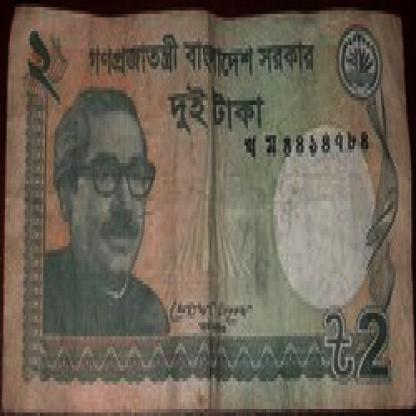two taka: (333, 294, 394, 385), (22, 21, 80, 111)
